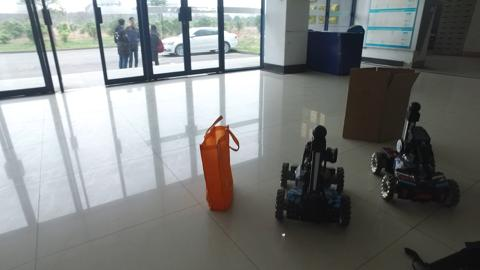bag: (201, 119, 233, 213)
box: (346, 68, 404, 141)
chariot: (372, 102, 463, 210), (274, 121, 353, 225)
